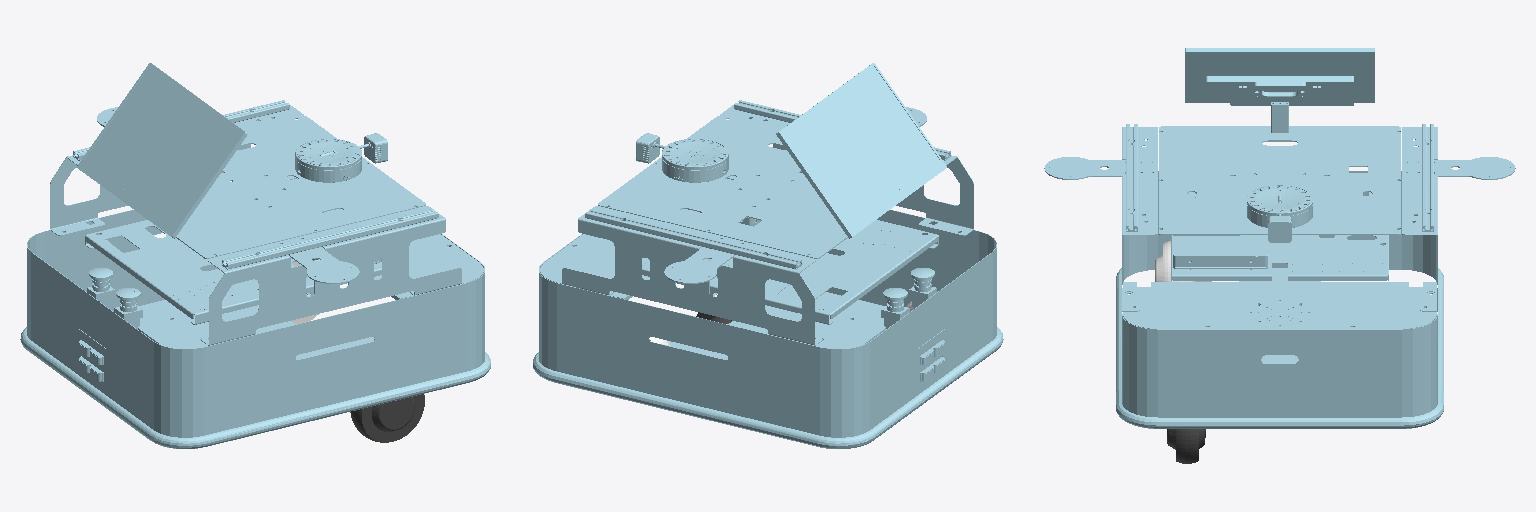
robot.urdf — lucsys_lsr550_akm_premium_oscillating_axle_suspension:
<?xml version="1.0" encoding="utf-8"?>
<robot name="lucsys_lsr550_akm_premium_oscillating_axle_suspension">
  <link name="base_link">
    <inertial>
      <origin xyz="-0.0559438609142813 0.00330415969343129 0.0632418734279548" rpy="0 0 0" />
      <mass value="2.0181307631489" />
      <inertia ixx="0.00496775560441293" ixy="-2.50338594522071E-06" ixz="-5.77894689328328E-06" iyy="0.00738528213809822" iyz="2.98387989498573E-07" izz="0.0118788713157811" />
    </inertial>
    <visual>
      <origin xyz="0 0 0" rpy="0 0 0" />
      <geometry>
        <mesh filename="package://lucsys_lsr550_akm_premium_oscillating_axle_suspension_description/meshes/lsr550_akm_premium_oscillating_axle_suspension/base_link.STL" />
      </geometry>
      <material name="lucsys_material_0">
        <color rgba="0.741176470588235 0.901960784313726 0.956862745098039 1" />
      </material>
    </visual>
    <collision>
      <origin xyz="0 0 0" rpy="0 0 0" />
      <geometry>
        <mesh filename="package://lucsys_lsr550_akm_premium_oscillating_axle_suspension_description/meshes/lsr550_akm_premium_oscillating_axle_suspension/base_link.STL" />
      </geometry>
    </collision>
  </link>
  <link name="lf_wheel_link">
    <inertial>
      <origin xyz="-4.54607698152643E-07 0.00161800736444831 1.60077912735659E-05" rpy="0 0 0" />
      <mass value="0.282382357492354" />
      <inertia ixx="0.000386424332780066" ixy="-5.52689264664868E-08" ixz="-3.90350993787636E-09" iyy="0.000685587970851221" iyz="2.23837352292227E-08" izz="0.00038646534831492" />
    </inertial>
    <visual>
      <origin xyz="0 0 0" rpy="0 0 0" />
      <geometry>
        <mesh filename="package://lucsys_lsr550_akm_premium_oscillating_axle_suspension_description/meshes/lsr550_akm_premium_oscillating_axle_suspension/lf_wheel_link.STL" />
      </geometry>
      <material name="lucsys_material_1">
        <color rgba="1 1 1 1" />
      </material>
    </visual>
    <collision>
      <origin xyz="0 0 0" rpy="0 0 0" />
      <geometry>
        <mesh filename="package://lucsys_lsr550_akm_premium_oscillating_axle_suspension_description/meshes/lsr550_akm_premium_oscillating_axle_suspension/lf_wheel_link.STL" />
      </geometry>
    </collision>
  </link>
  <joint name="lf_wheel_joint" type="continuous">
    <origin xyz="0.161163518918357 0.1542832024083 0.0241" rpy="0 0 0" />
    <parent link="base_link" />
    <child link="lf_wheel_link" />
    <axis xyz="-0.000184355204823019 0.999999983006579 0" />
  </joint>
  <link name="lb_wheel_link">
    <inertial>
      <origin xyz="-9.77664030010761E-08 0.00161800832068462 -1.60090049464712E-05" rpy="0 0 0" />
      <mass value="0.28238235510151" />
      <inertia ixx="0.000386424313854914" ixy="1.16194804289711E-10" ixz="-3.84765875735604E-09" iyy="0.000685587976199213" iyz="-2.23847888818388E-08" izz="0.000386465352037647" />
    </inertial>
    <visual>
      <origin xyz="0 0 0" rpy="0 0 0" />
      <geometry>
        <mesh filename="package://lucsys_lsr550_akm_premium_oscillating_axle_suspension_description/meshes/lsr550_akm_premium_oscillating_axle_suspension/lb_wheel_link.STL" />
      </geometry>
      <material name="lucsys_material_2">
        <color rgba="1 1 1 1" />
      </material>
    </visual>
    <collision>
      <origin xyz="0 0 0" rpy="0 0 0" />
      <geometry>
        <mesh filename="package://lucsys_lsr550_akm_premium_oscillating_axle_suspension_description/meshes/lsr550_akm_premium_oscillating_axle_suspension/lb_wheel_link.STL" />
      </geometry>
    </collision>
  </link>
  <joint name="lb_wheel_joint" type="continuous">
    <origin xyz="-0.157526481081643 0.155883202408302 0.024" rpy="0 0 0" />
    <parent link="base_link" />
    <child link="lb_wheel_link" />
    <axis xyz="0 1 0" />
  </joint>
  <link name="rb_wheel_link">
    <inertial>
      <origin xyz="6.80710226524939E-06 -0.00161799270928523 -1.47295337563288E-05" rpy="0 0 0" />
      <mass value="0.282382027797711" />
      <inertia ixx="0.000386426919158995" ixy="-7.98393791848843E-09" ixz="-1.25437358997355E-08" iyy="0.000685587931504061" iyz="2.05682797107053E-08" izz="0.000386462676564921" />
    </inertial>
    <visual>
      <origin xyz="0 0 0" rpy="0 0 0" />
      <geometry>
        <mesh filename="package://lucsys_lsr550_akm_premium_oscillating_axle_suspension_description/meshes/lsr550_akm_premium_oscillating_axle_suspension/rb_wheel_link.STL" />
      </geometry>
      <material name="lucsys_material_3">
        <color rgba="1 1 1 1" />
      </material>
    </visual>
    <collision>
      <origin xyz="0 0 0" rpy="0 0 0" />
      <geometry>
        <mesh filename="package://lucsys_lsr550_akm_premium_oscillating_axle_suspension_description/meshes/lsr550_akm_premium_oscillating_axle_suspension/rb_wheel_link.STL" />
      </geometry>
    </collision>
  </link>
  <joint name="rb_wheel_joint" type="continuous">
    <origin xyz="-0.157526481081644 -0.154348797591698 0.024" rpy="0 0 0" />
    <parent link="base_link" />
    <child link="rb_wheel_link" />
    <axis xyz="0 -1 0" />
  </joint>
  <link name="rf_wheel_link">
    <inertial>
      <origin xyz="-9.7767222234646E-08 -0.00161800832093656 1.60090049463671E-05" rpy="0 0 0" />
      <mass value="0.28238235510151" />
      <inertia ixx="0.000386424313854915" ixy="-1.1619480218228E-10" ixz="3.84765875779835E-09" iyy="0.000685587976199214" iyz="-2.23847888821488E-08" izz="0.000386465352037647" />
    </inertial>
    <visual>
      <origin xyz="0 0 0" rpy="0 0 0" />
      <geometry>
        <mesh filename="package://lucsys_lsr550_akm_premium_oscillating_axle_suspension_description/meshes/lsr550_akm_premium_oscillating_axle_suspension/rf_wheel_link.STL" />
      </geometry>
      <material name="lucsys_material_4">
        <color rgba="0.349019607843137 0.349019607843137 0.349019607843137 1" />
      </material>
    </visual>
    <collision>
      <origin xyz="0 0 0" rpy="0 0 0" />
      <geometry>
        <mesh filename="package://lucsys_lsr550_akm_premium_oscillating_axle_suspension_description/meshes/lsr550_akm_premium_oscillating_axle_suspension/rf_wheel_link.STL" />
      </geometry>
    </collision>
  </link>
  <joint name="rf_wheel_joint" type="continuous">
    <origin xyz="0.161173518918356 -0.1529487975917 0.0241" rpy="0 0 0" />
    <parent link="base_link" />
    <child link="rf_wheel_link" />
    <axis xyz="0 -1 0" />
  </joint>
  <link name="camera_link">
    <inertial>
      <origin xyz="-3.7325679416722E-07 -3.5360806139174E-07 1.07624233500886E-07" rpy="0 0 0" />
      <mass value="0.0559842512080098" />
      <inertia ixx="0.000130810959339214" ixy="1.2025512820631E-07" ixz="1.62335437080103E-06" iyy="1.91148634967897E-05" iyz="-2.80016755799718E-08" izz="0.000131387469523028" />
    </inertial>
    <visual>
      <origin xyz="0 0 0" rpy="0 0 0" />
      <geometry>
        <mesh filename="package://lucsys_lsr550_akm_premium_oscillating_axle_suspension_description/meshes/lsr550_akm_premium_oscillating_axle_suspension/camera_link.STL" />
      </geometry>
      <material name="lucsys_material_5">
        <color rgba="1 1 1 1" />
      </material>
    </visual>
    <collision>
      <origin xyz="0 0 0" rpy="0 0 0" />
      <geometry>
        <mesh filename="package://lucsys_lsr550_akm_premium_oscillating_axle_suspension_description/meshes/lsr550_akm_premium_oscillating_axle_suspension/camera_link.STL" />
      </geometry>
    </collision>
  </link>
  <joint name="camera_joint" type="fixed">
    <origin xyz="0.165778518918356 0.000945202408300414 0.089704" rpy="0 0 0" />
    <parent link="base_link" />
    <child link="camera_link" />
    <axis xyz="0 0 0" />
  </joint>
  <link name="laser_link">
    <inertial>
      <origin xyz="0.0023946067219177 -4.36235872412078E-06 0.0045403567617667" rpy="0 0 0" />
      <mass value="0.0391766918354982" />
      <inertia ixx="2.82296075716123E-05" ixy="-2.19900342512302E-09" ixz="1.07118438626956E-06" iyy="3.3798449785624E-05" iyz="6.83963624087229E-10" izz="4.50920076524856E-05" />
    </inertial>
    <visual>
      <origin xyz="0 0 0" rpy="0 0 0" />
      <geometry>
        <mesh filename="package://lucsys_lsr550_akm_premium_oscillating_axle_suspension_description/meshes/lsr550_akm_premium_oscillating_axle_suspension/laser.STL" />
      </geometry>
      <material name="lucsys_material_6">
        <color rgba="0.376470588235294 0.376470588235294 0.376470588235294 1" />
      </material>
    </visual>
    <collision>
      <origin xyz="0 0 0" rpy="0 0 0" />
      <geometry>
        <mesh filename="package://lucsys_lsr550_akm_premium_oscillating_axle_suspension_description/meshes/lsr550_akm_premium_oscillating_axle_suspension/laser.STL" />
      </geometry>
    </collision>
  </link>
  <joint name="laser_joint" type="fixed">
    <origin xyz="0.0887405189187401 0.000667202411597726 0.111024183741431" rpy="0 0 3.14159265358979" />
    <parent link="base_link" />
    <child link="laser_link" />
    <axis xyz="0 0 0" />
  </joint>
  <link name="controller_link">
    <inertial>
      <origin xyz="-0.0345544164537016 0.0884587575062851 -0.00475090869119182" rpy="0 0 0" />
      <mass value="0.00500280353665619" />
      <inertia ixx="5.5683668655799E-07" ixy="-4.85797552736302E-14" ixz="-5.07877534231843E-15" iyy="9.83824150757692E-08" iyz="3.20815042741342E-14" izz="6.06554886179191E-07" />
    </inertial>
    <visual>
      <origin xyz="0 0 0" rpy="0 0 0" />
      <geometry>
        <mesh filename="package://lucsys_lsr550_akm_premium_oscillating_axle_suspension_description/meshes/lsr550_akm_premium_oscillating_axle_suspension/controller_link.STL" />
      </geometry>
      <material name="lucsys_material_7">
        <color rgba="0.741176470588235 0.901960784313726 0.956862745098039 1" />
      </material>
    </visual>
    <collision>
      <origin xyz="0 0 0" rpy="0 0 0" />
      <geometry>
        <mesh filename="package://lucsys_lsr550_akm_premium_oscillating_axle_suspension_description/meshes/lsr550_akm_premium_oscillating_axle_suspension/controller_link.STL" />
      </geometry>
    </collision>
  </link>
  <joint name="controller_joint" type="fixed">
    <origin xyz="-0.0721543141474791 -0.0796936307251098 0.155" rpy="0 0 0" />
    <parent link="base_link" />
    <child link="controller_link" />
    <axis xyz="0 0 0" />
  </joint>
</robot>

--- What the picture shows (computed from the rendered views, not written in the file) ---
The picture shows the robot from 3 angles, left to right: view 1: azimuth 30°, elevation 25°; view 2: azimuth 150°, elevation 25°; view 3: azimuth 270°, elevation 25°; orthographic projection.
Robot: lucsys_lsr550_akm_premium_oscillating_axle_suspension — 8 links, 7 joints (4 continuous, 3 fixed); root link base_link; default pose: every joint at zero.
Links seen in each view (by area): view 1: base_link, rf_wheel_link; view 2: base_link; view 3: base_link, rf_wheel_link, rb_wheel_link.
Boxes of the visible links, x1,y1,x2,y2 form: base_link: [20, 63, 490, 448]; rf_wheel_link: [350, 394, 424, 442]; base_link: [533, 63, 1003, 448]; base_link: [1044, 48, 1515, 428]; rf_wheel_link: [1167, 429, 1205, 463]; rb_wheel_link: [1155, 241, 1211, 281].
Bounding box of the posed robot: 0.64 × 0.7764 × 0.6233 m (x, y, z).
Meshes: 8 distinct files referenced, 4 mesh visuals loaded (4 binary STL); not drawn: 4 (reference not matched to a file when rendering).
